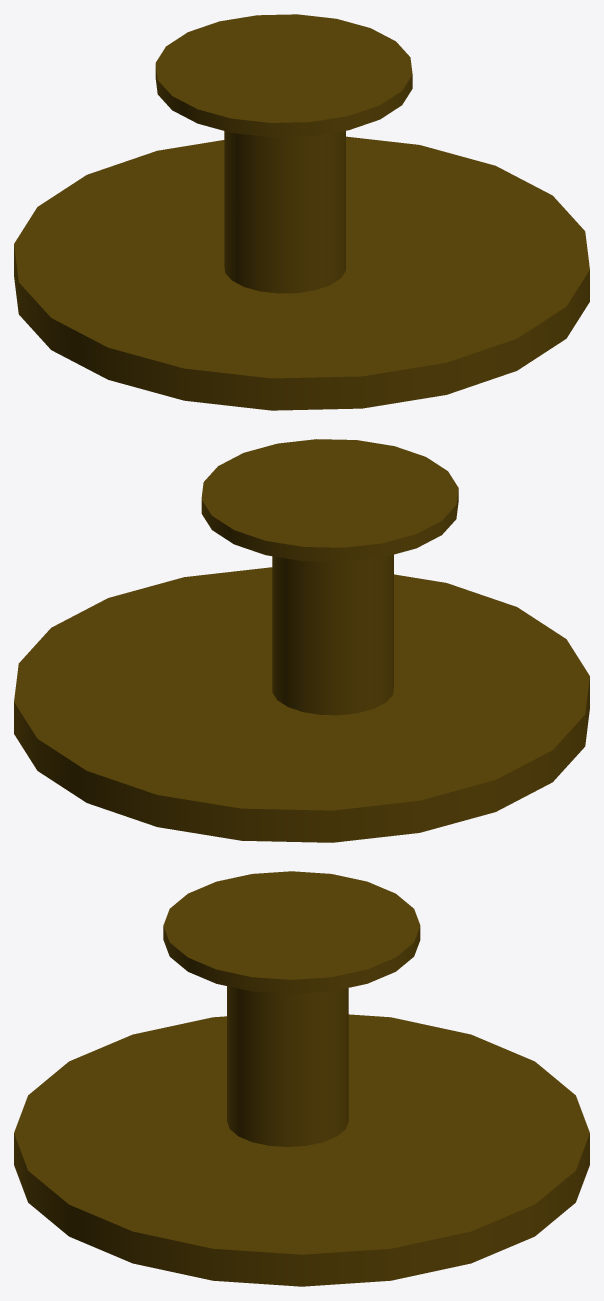
The model's file is tableRound.fbx.
3 views of the same model, one above another, from view 1: azimuth 30°, elevation 25°; view 2: azimuth 150°, elevation 25°; view 3: azimuth 270°, elevation 25° (orthographic).
Visible parts, largest first — view 1: pCylinder1, pasted__pCylinder1, pCylinder2; view 2: pCylinder1, pasted__pCylinder1, pCylinder2; view 3: pCylinder1, pasted__pCylinder1, pCylinder2.
Part boxes in pixels (x1=…): pCylinder1: x1=14, y1=136, x2=589, y2=410; pasted__pCylinder1: x1=155, y1=14, x2=412, y2=137; pCylinder2: x1=224, y1=131, x2=345, y2=293; pCylinder1: x1=14, y1=567, x2=589, y2=842; pasted__pCylinder1: x1=201, y1=439, x2=458, y2=561; pCylinder2: x1=272, y1=554, x2=393, y2=715; pCylinder1: x1=14, y1=1014, x2=589, y2=1286; pasted__pCylinder1: x1=163, y1=871, x2=420, y2=993; pCylinder2: x1=227, y1=986, x2=348, y2=1146.
Size of the model in its own units: 17.28 by 7.56 by 17.28.
